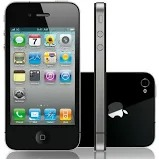iphone: (2, 1, 81, 152)
iphone4: (2, 1, 81, 151)
